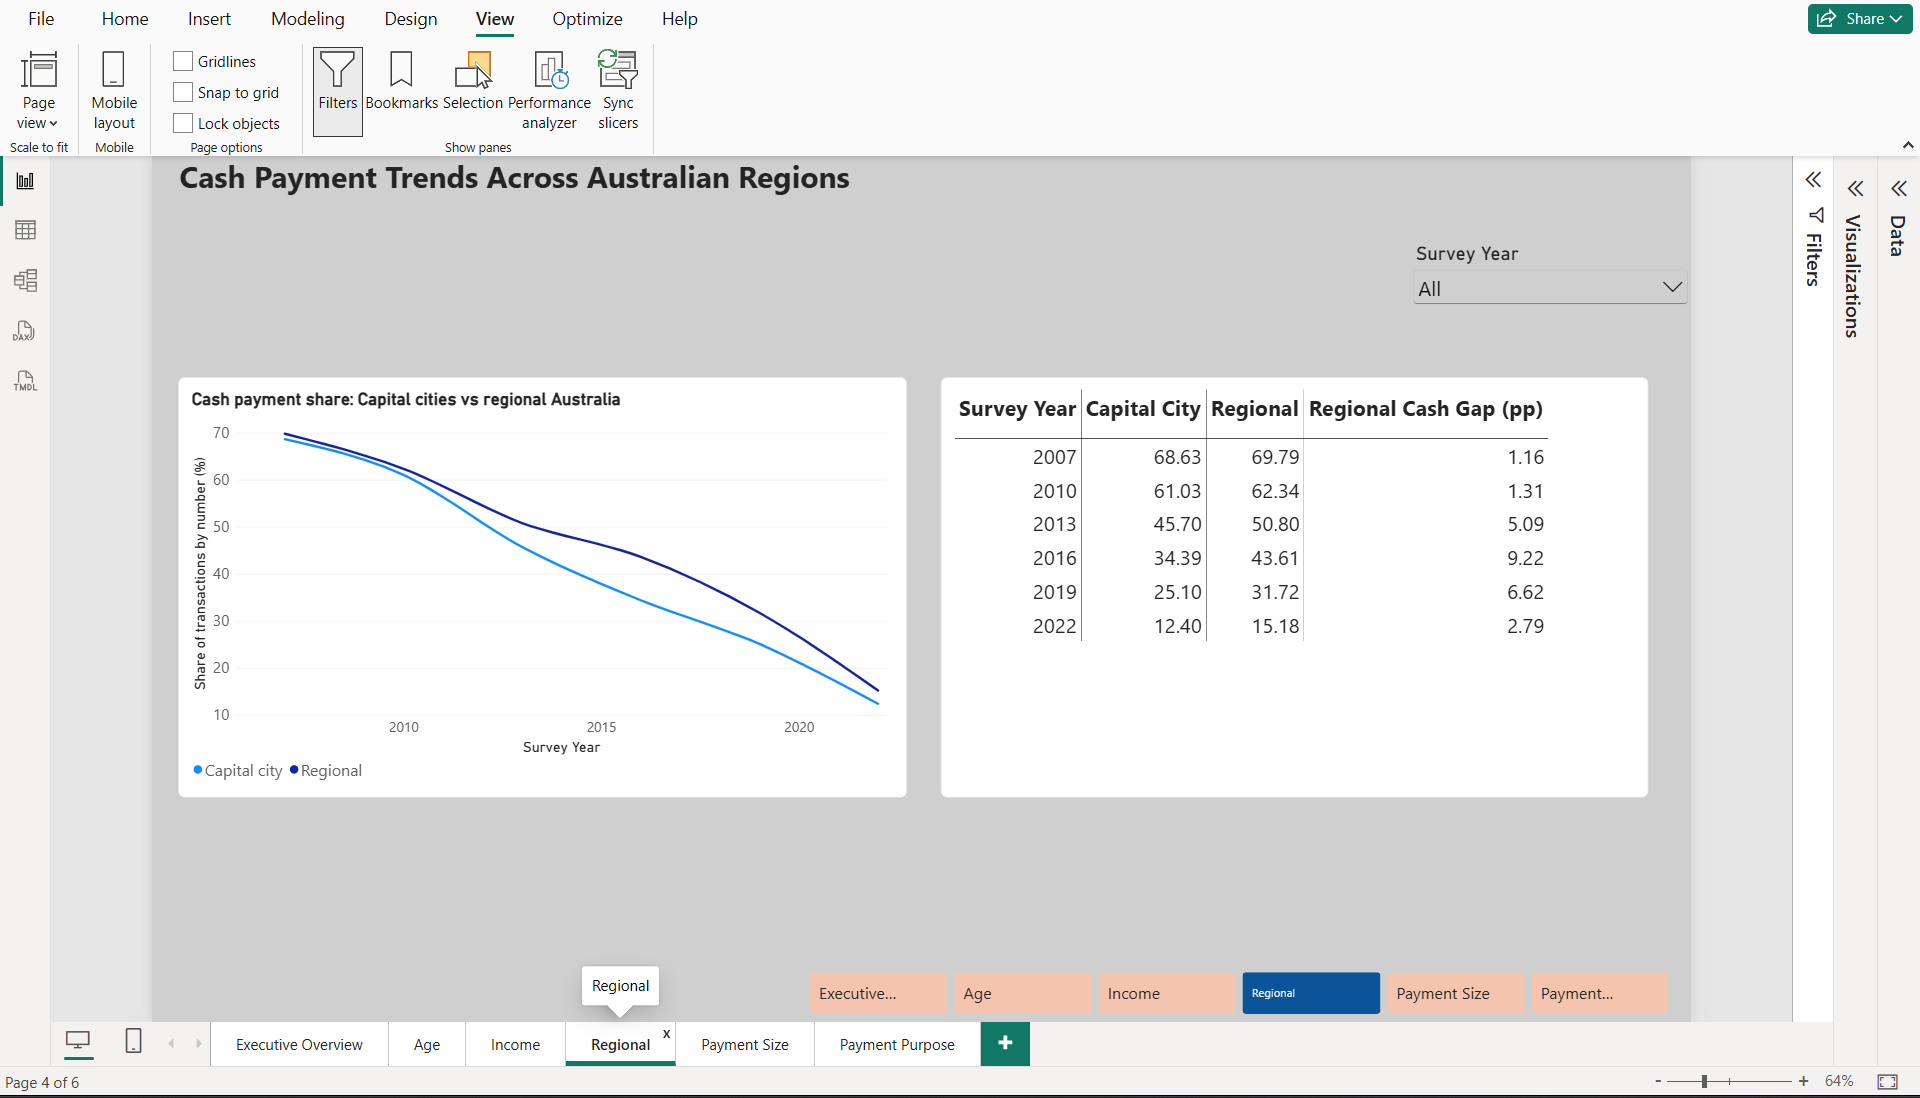

The page's visual inventory and layout, read from the dashboard file:
{"tool":"powerbi","page":{"name":"Regional","canvas":[1920,1080],"ordinal":3},"visuals":[{"type":"lineChart","title":"Cash payment share: Capital cities vs regional Australia","fields":{"Category":["Region.Survey Year"],"Series":["Region.Demographic"],"Y":["Avg(Region.Payment Share)"]},"box":[32.9,275.8,908.9,523.8],"z":0},{"type":"tableEx","fields":{"Values":["Region.Survey Year","Region.Capital City","Region.Regional","Region.Regional Cash Gap (pp)"]},"box":[983.9,275.8,882.7,523.8],"z":1000},{"type":"textbox","box":[33.6,0,1046.1,108],"z":2001},{"type":"pageNavigator","box":[819.9,1018.4,1076.7,52.5],"z":2002},{"type":"slicer","fields":{"Values":["Region.Survey Year"]},"box":[1568.4,107,352,148.2],"z":2003}]}

Visuals, with their boxes on the page's 1920x1080 design canvas (x1, y1, x2, y2). These are canvas units, not pixel positions in the 1920x1098 screenshot, which may show the page scaled, cropped or inside an application window:
"Cash payment share: Capital cities vs regional Australia" lineChart: bbox=[33, 276, 942, 800]
tableEx - Region.Survey Year x Region.Capital City: bbox=[984, 276, 1867, 800]
textbox: bbox=[34, 0, 1080, 108]
pageNavigator: bbox=[820, 1018, 1897, 1071]
slicer - Region.Survey Year: bbox=[1568, 107, 1920, 255]
